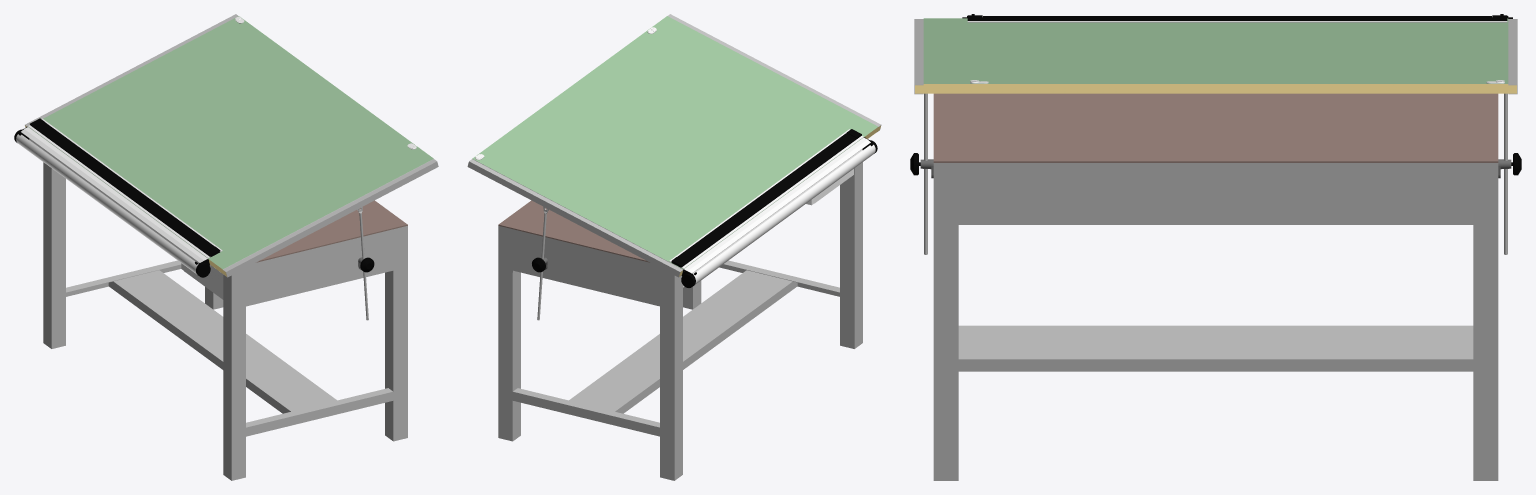
The model's file is Drafting Table.fbx.
3 views of the same model, side by side, from view 1: azimuth 30°, elevation 25°; view 2: azimuth 150°, elevation 25°; view 3: azimuth 270°, elevation 25° (orthographic). The views are drawn at different scales.
Parts seen in each view (by area): view 1: DT_Board1, DT_Foot_Rest1, DT_Side_Top1, DT_Front_Leg1, DT_Rear_Leg1, DTSR_Tube1, DT_Front_Leg2, DTPB_Bar1, DT_Masonite_Top1, DT_Board_Edge2, DT_Side_Angle1, DT_Side_Angle2 (+2 smaller); view 2: DT_Board1, DT_Foot_Rest1, DT_Side_Top2, DT_Front_Leg2, DT_Rear_Leg2, DTSR_Tube1, DT_Front_Leg1, DTPB_Bar1, DT_Masonite_Top1, DT_Board_Edge1, DT_Side_Angle2, DT_Side_Angle1 (+1 smaller); view 3: DT_Board1, DT_Masonite_Top1, DT_Back1, DT_Foot_Rest1, DT_Rear_Leg1, DT_Rear_Leg2, DTPB_Bar1, DT_Board_Edge1, DT_Board_Edge2.
Part boxes in pixels (x1,y1,x2,y2): DT_Board1: (25, 16, 433, 276); DT_Foot_Rest1: (108, 270, 336, 413); DT_Side_Top1: (246, 229, 393, 306); DT_Front_Leg1: (223, 268, 245, 480); DT_Rear_Leg1: (385, 226, 407, 441); DTSR_Tube1: (16, 127, 207, 274); DT_Front_Leg2: (43, 162, 65, 348); DTPB_Bar1: (28, 118, 222, 258); DT_Masonite_Top1: (256, 200, 407, 262); DT_Board_Edge2: (223, 159, 438, 277); DT_Side_Angle1: (246, 388, 393, 436); DT_Side_Angle2: (66, 260, 181, 296); DT_Board1: (472, 16, 880, 276); DT_Foot_Rest1: (569, 270, 797, 413); DT_Side_Top2: (513, 229, 659, 306); DT_Front_Leg2: (660, 268, 682, 480); DT_Rear_Leg2: (498, 226, 520, 441); DTSR_Tube1: (684, 137, 875, 284); DT_Front_Leg1: (840, 162, 862, 348); DTPB_Bar1: (669, 129, 863, 268); DT_Masonite_Top1: (498, 200, 649, 262); DT_Board_Edge1: (467, 159, 682, 277); DT_Side_Angle2: (512, 388, 659, 436); DT_Side_Angle1: (719, 260, 839, 296); DT_Board1: (915, 18, 1516, 93); DT_Masonite_Top1: (933, 93, 1498, 162); DT_Back1: (958, 163, 1473, 224); DT_Foot_Rest1: (958, 325, 1473, 371); DT_Rear_Leg1: (933, 163, 958, 480); DT_Rear_Leg2: (1473, 163, 1498, 480); DTPB_Bar1: (967, 15, 1507, 22); DT_Board_Edge1: (1508, 19, 1517, 94); DT_Board_Edge2: (914, 19, 923, 94).
Bounding box in the file's own units: 38.97 × 45.87 × 61.22.
